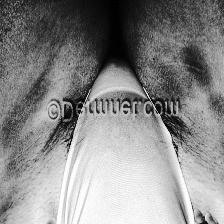Unclassified: (0, 88, 64, 173), (202, 88, 224, 166), (176, 40, 210, 88)
